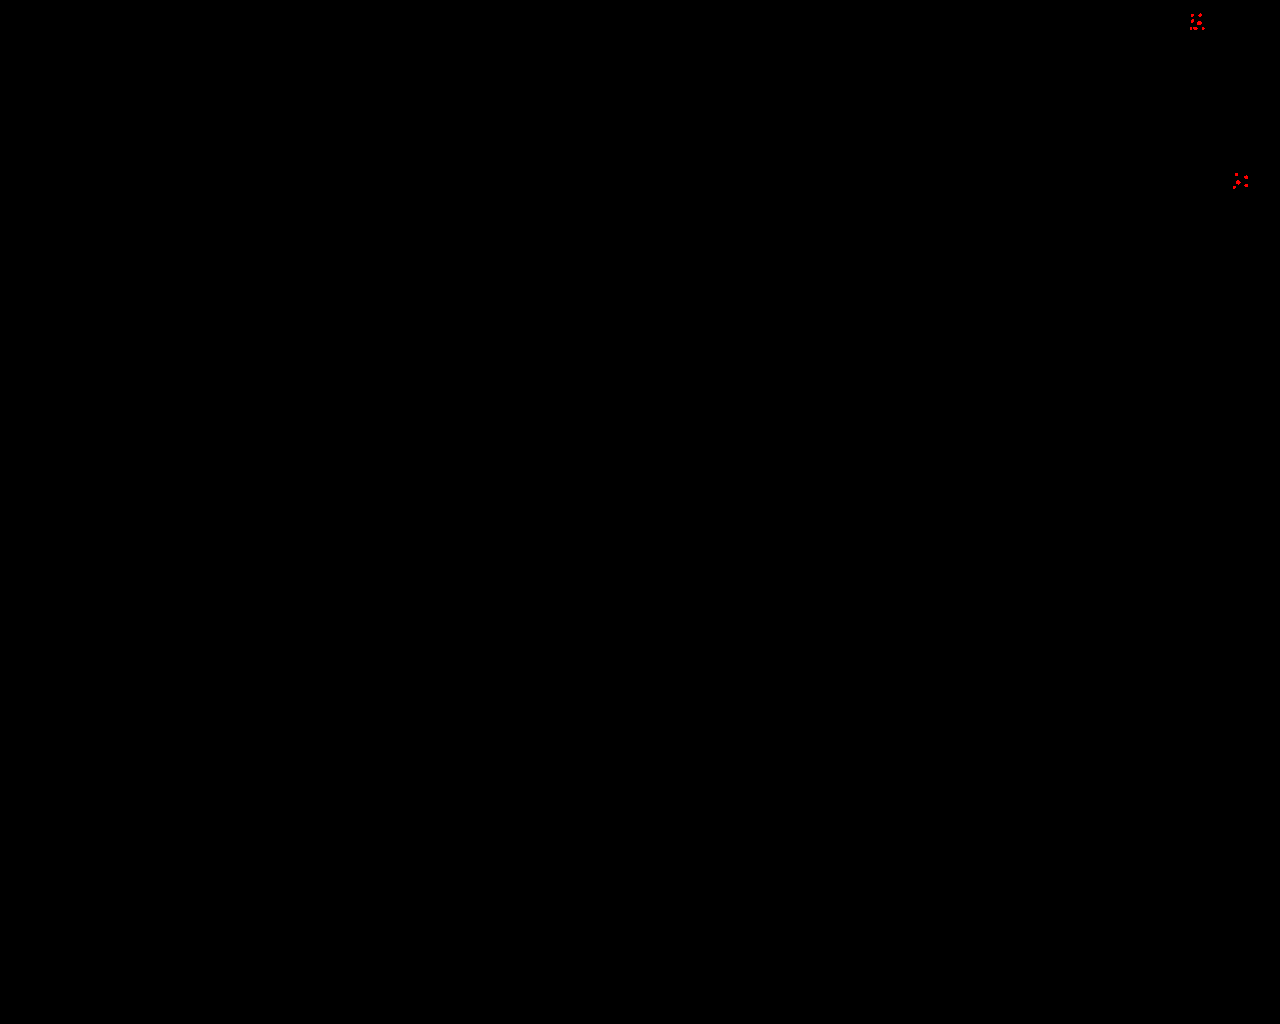Target: (1236, 180, 1241, 185), (1197, 21, 1202, 25), (1193, 27, 1198, 30), (1198, 13, 1202, 17), (1191, 19, 1194, 23), (1244, 174, 1248, 179), (1191, 14, 1194, 17), (1202, 27, 1205, 30), (1244, 184, 1248, 187), (1233, 186, 1236, 189), (1190, 27, 1192, 30), (1235, 173, 1238, 176)
